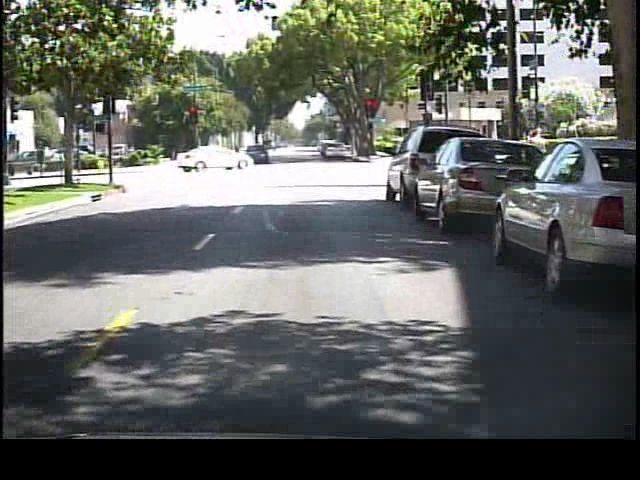person: (254, 141, 271, 170)
